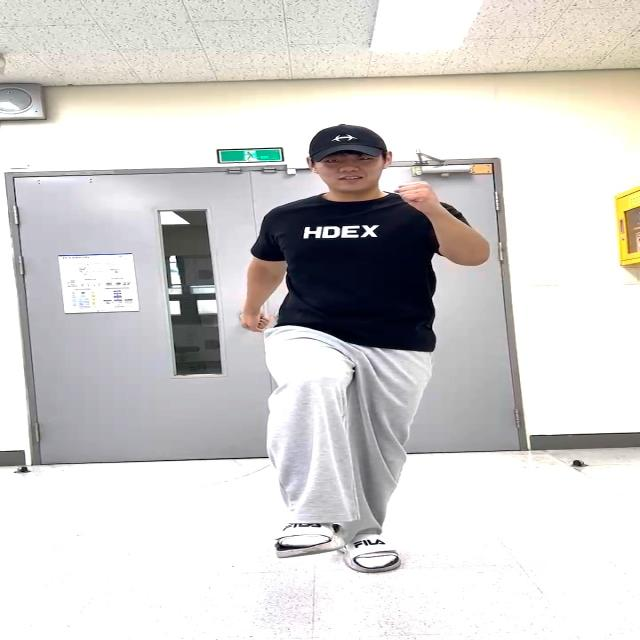leg: (268, 332, 350, 552)
